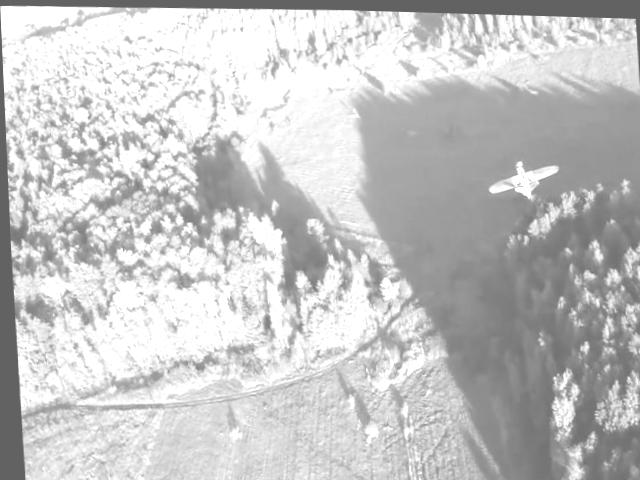hedef: (478, 150, 565, 209)
